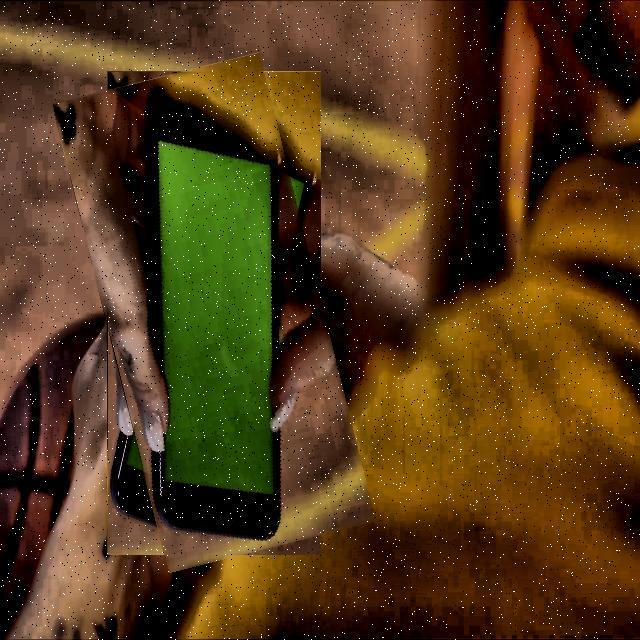Phone: (80, 62, 348, 564)
